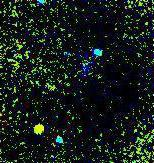star: (23, 112, 53, 142)
